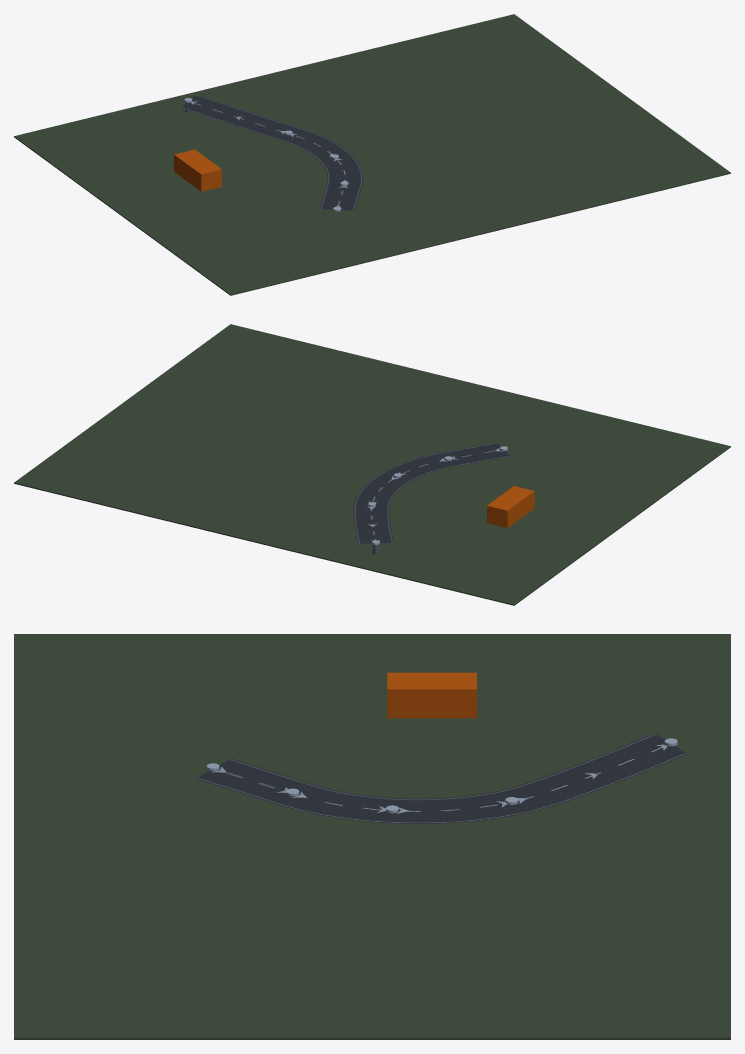
The model's file is untitled_map_scene.glb.
3 renders of one model, top to bottom at view 1: azimuth 30°, elevation 25°; view 2: azimuth 150°, elevation 25°; view 3: azimuth 270°, elevation 25°, orthographic. The views are drawn at different scales.
Parts seen in each view (by area): view 1: GroundPlane, RoadSurface_net_1, container_96yd; view 2: GroundPlane, RoadSurface_net_1, container_96yd; view 3: GroundPlane, RoadSurface_net_1, container_96yd.
Boxes of the visible parts, bbox=[...] form: GroundPlane: bbox=[14, 14, 730, 295]; RoadSurface_net_1: bbox=[181, 94, 363, 210]; container_96yd: bbox=[174, 149, 221, 191]; GroundPlane: bbox=[14, 324, 730, 605]; RoadSurface_net_1: bbox=[353, 442, 510, 543]; container_96yd: bbox=[487, 486, 534, 528]; GroundPlane: bbox=[14, 634, 730, 1039]; RoadSurface_net_1: bbox=[195, 733, 687, 823]; container_96yd: bbox=[387, 672, 476, 718].
Size of the model in its own units: 96 by 3.4 by 72.
10 materials, 1 textured.
